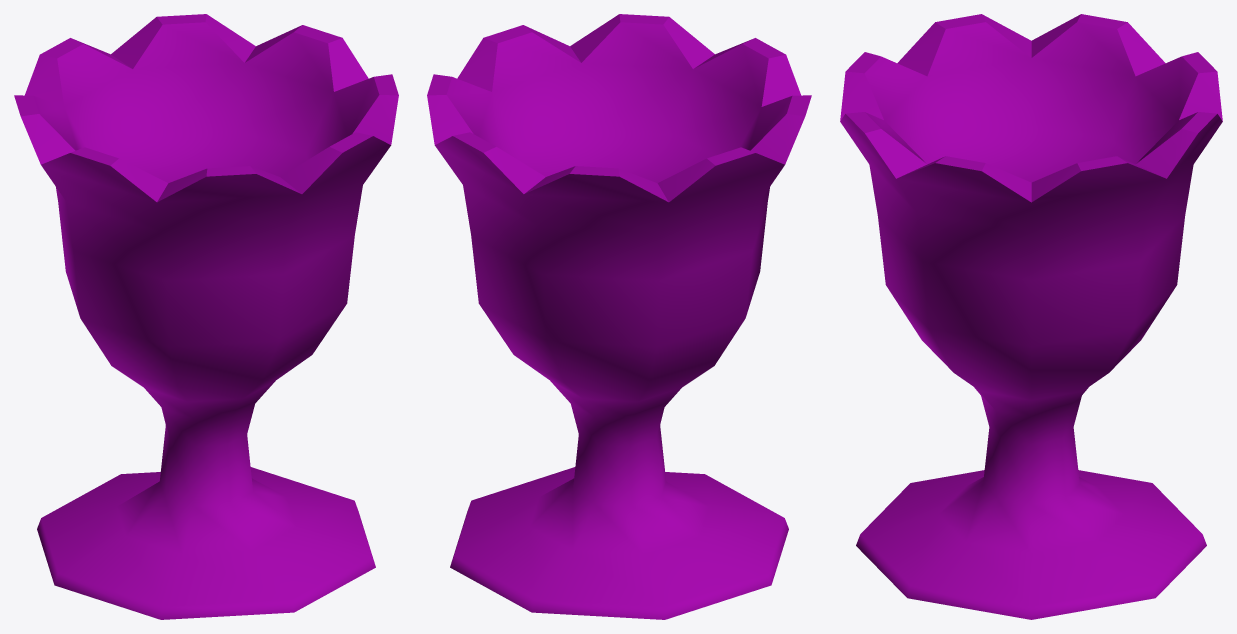
File: SundayGlass.fbx
3 views of the same model, side by side, from view 1: azimuth 30°, elevation 25°; view 2: azimuth 150°, elevation 25°; view 3: azimuth 270°, elevation 25° (orthographic).
Visible parts, largest first — view 1: SundayGlass; view 2: SundayGlass; view 3: SundayGlass.
Part boxes in pixels (bbox=[...]): SundayGlass: bbox=[14, 14, 398, 619]; SundayGlass: bbox=[427, 14, 811, 619]; SundayGlass: bbox=[840, 14, 1222, 619].
Bounding box in the file's own units: 2.56 × 3.35 × 2.56.
